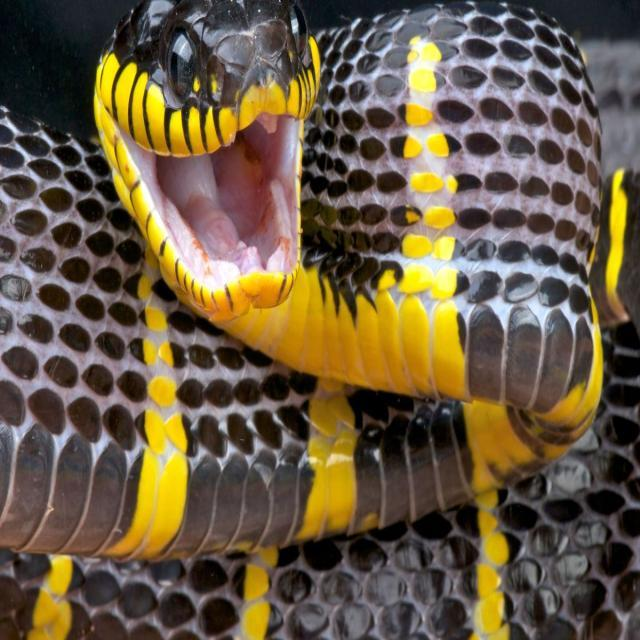Snake: (0, 0, 609, 580)
